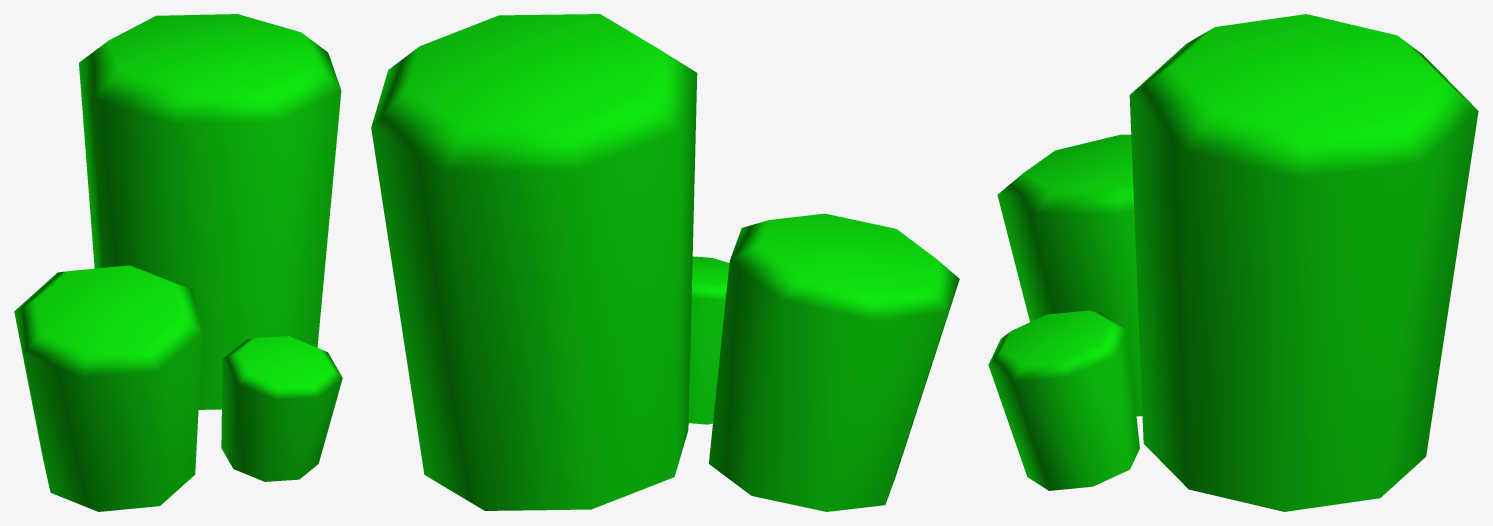
The model's file is m_crystal1.fbx.
3 views of the same model, side by side, from view 1: azimuth 30°, elevation 25°; view 2: azimuth 150°, elevation 25°; view 3: azimuth 270°, elevation 25° (orthographic). The views are drawn at different scales.
Parts seen in each view (by area): view 1: m_crystals1; view 2: m_crystals1; view 3: m_crystals1.
Boxes of the visible parts, box(x1,y1,x2,y2) form: m_crystals1: box(14, 14, 342, 511); m_crystals1: box(371, 14, 959, 511); m_crystals1: box(988, 14, 1478, 511).
Size of the model in its own units: 1.29 by 1.15 by 1.18.
